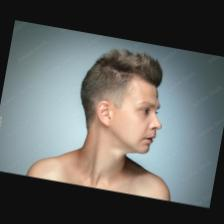Normal: (115, 83, 159, 151)
